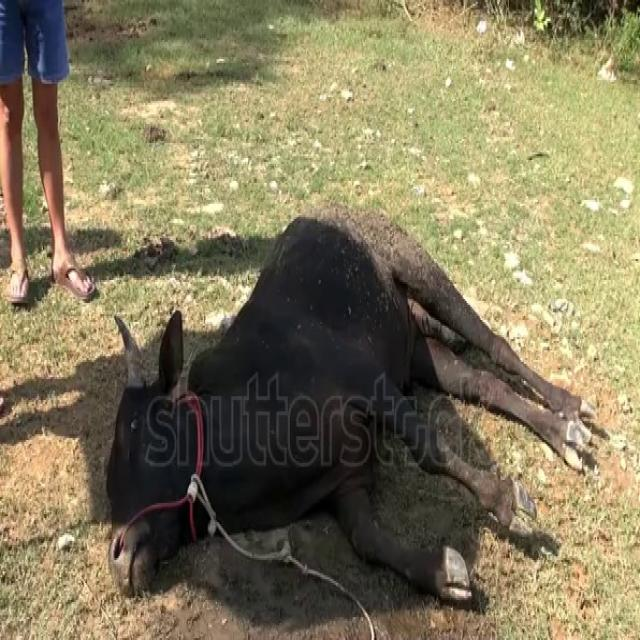injured-animals: (101, 198, 611, 613)
